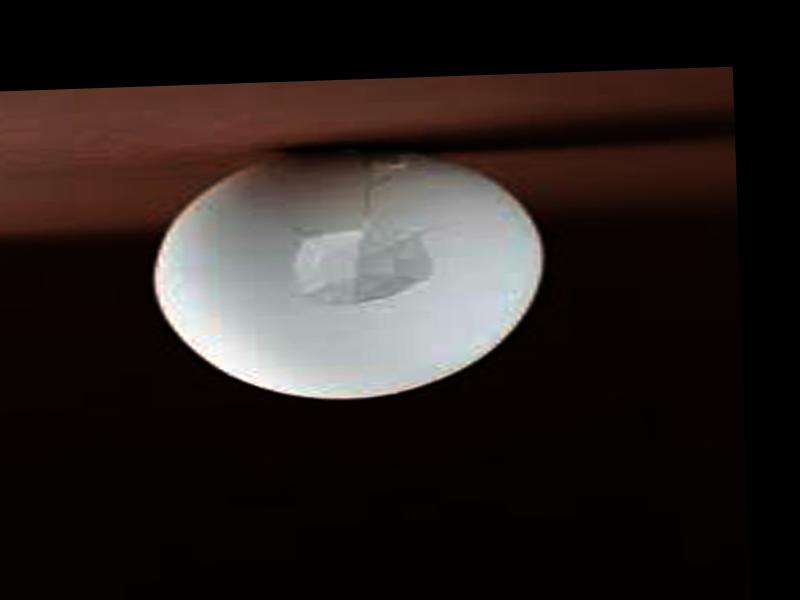Eggs: (149, 140, 542, 406)
